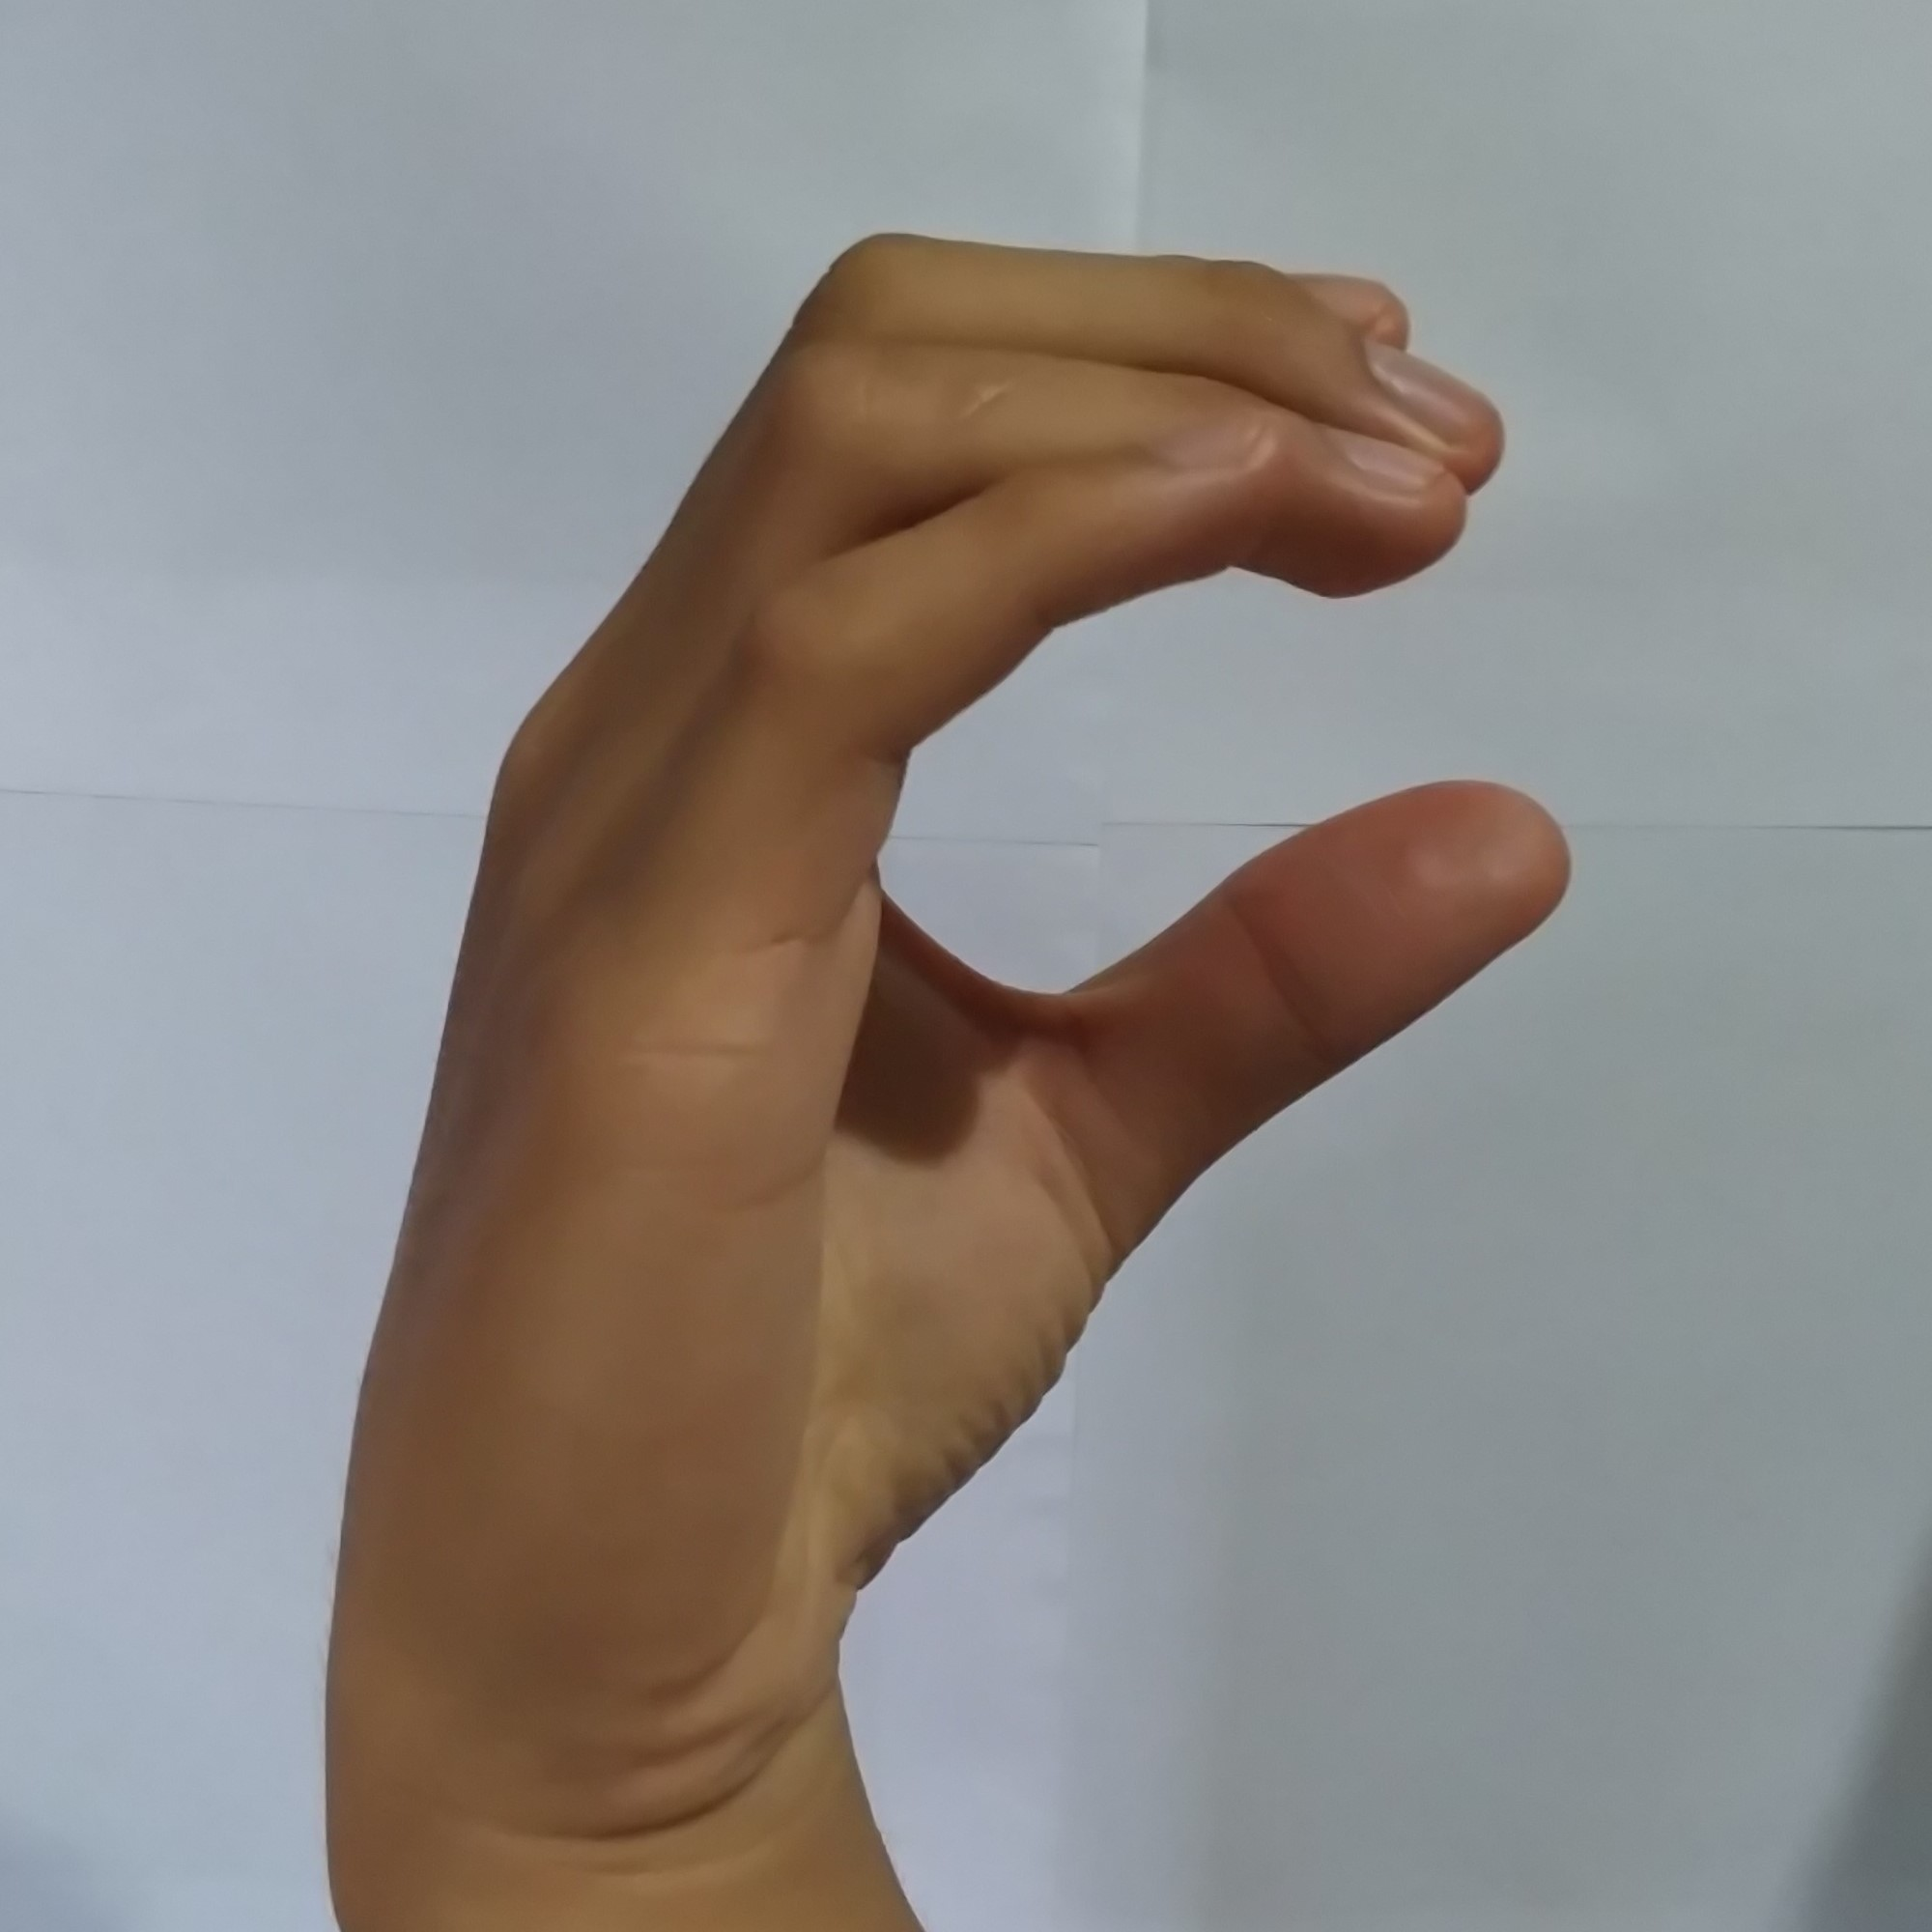C: (340, 203, 1599, 1723)
